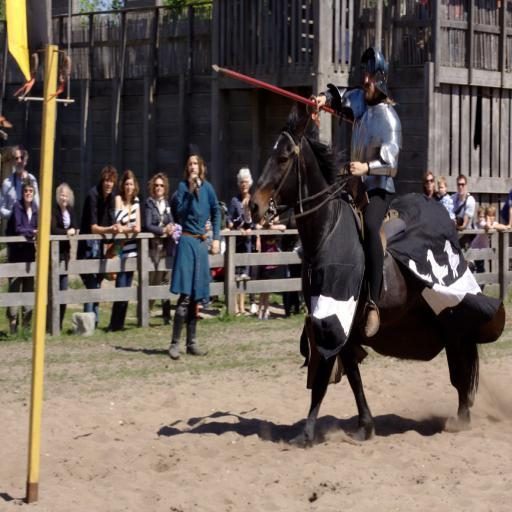horse: (248, 105, 482, 451)
